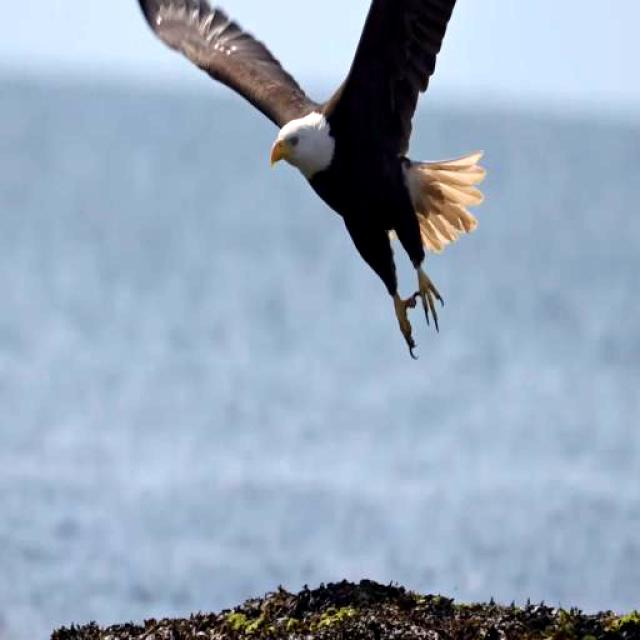airplane: (110, 0, 542, 362)
